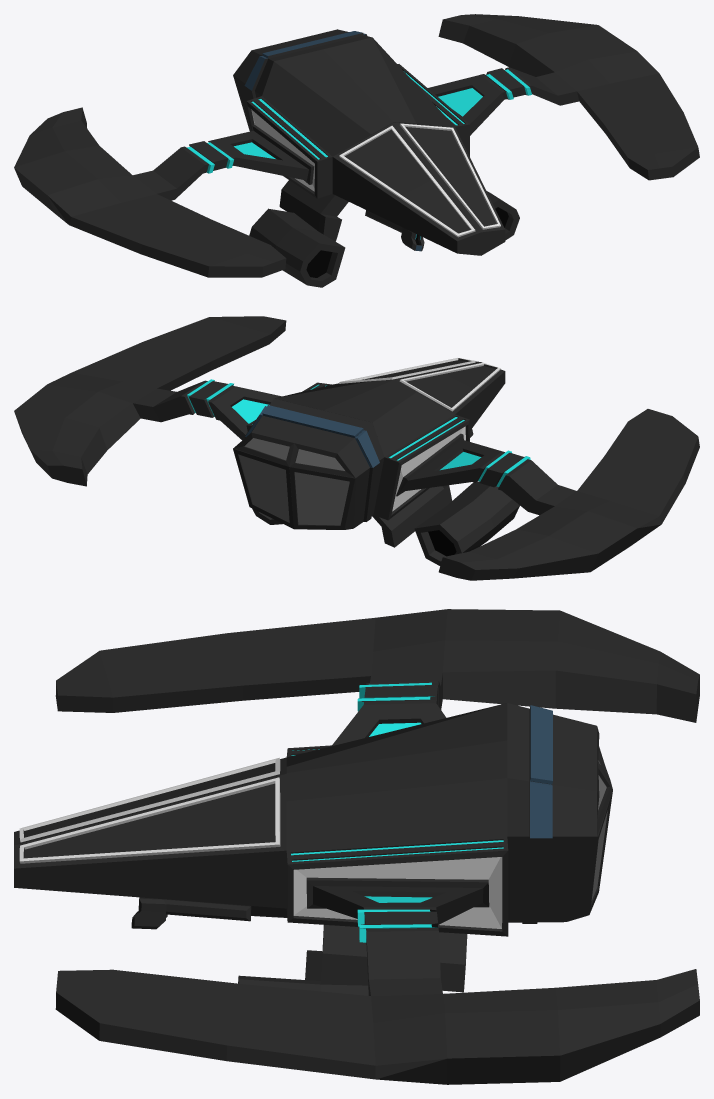
File: spaceship.fbx
3 renders of one model, top to bottom at view 1: azimuth 30°, elevation 25°; view 2: azimuth 150°, elevation 25°; view 3: azimuth 270°, elevation 25°, orthographic. The views are drawn at different scales.
Visible parts, largest first — view 1: spaceship; view 2: spaceship; view 3: spaceship.
Part boxes in pixels (bbox=[...]): spaceship: bbox=[14, 14, 699, 287]; spaceship: bbox=[14, 316, 699, 580]; spaceship: bbox=[14, 609, 699, 1084].
Size of the model in its own units: 968 by 248 by 622.
